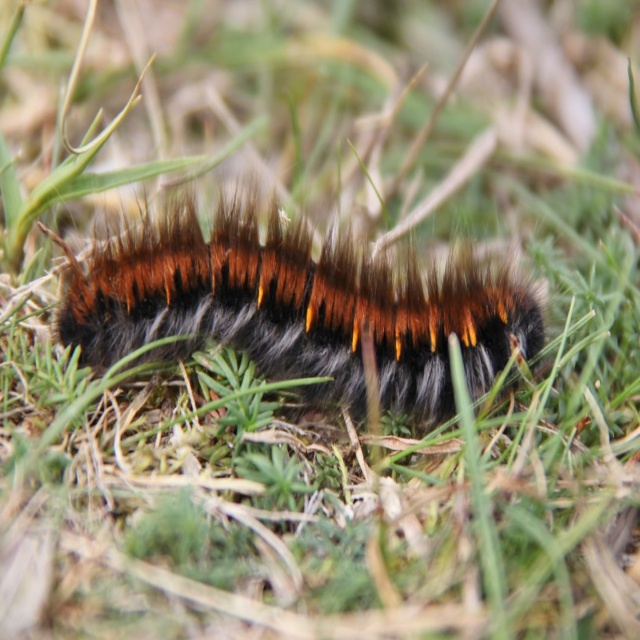Caterpillar: (33, 164, 576, 435)
